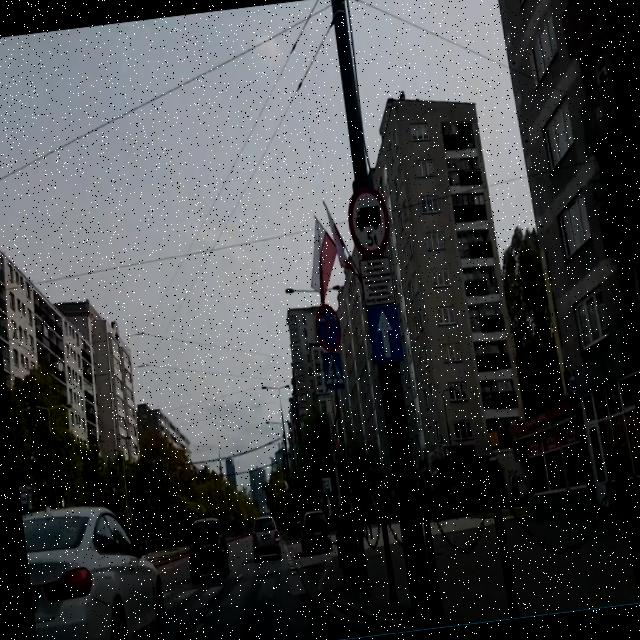Przejscie dla pieszych: (320, 348, 346, 390)
Zakaz zatrzymywania sie: (312, 302, 342, 352)
